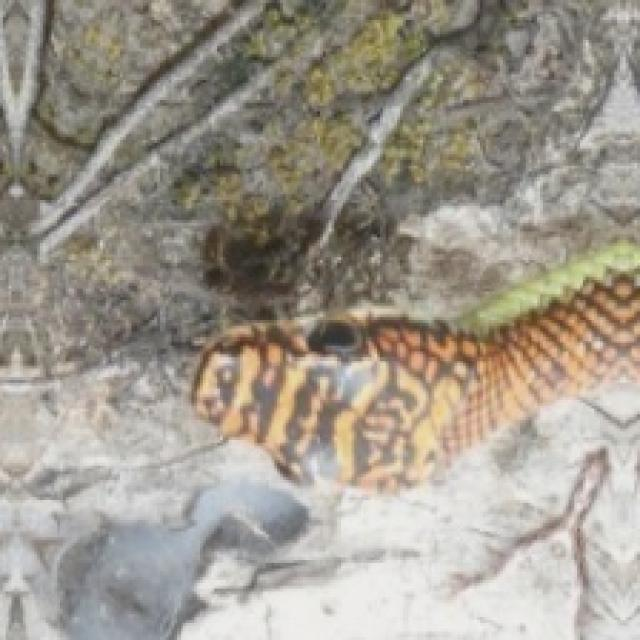paradise tree snake: (191, 271, 637, 486)
